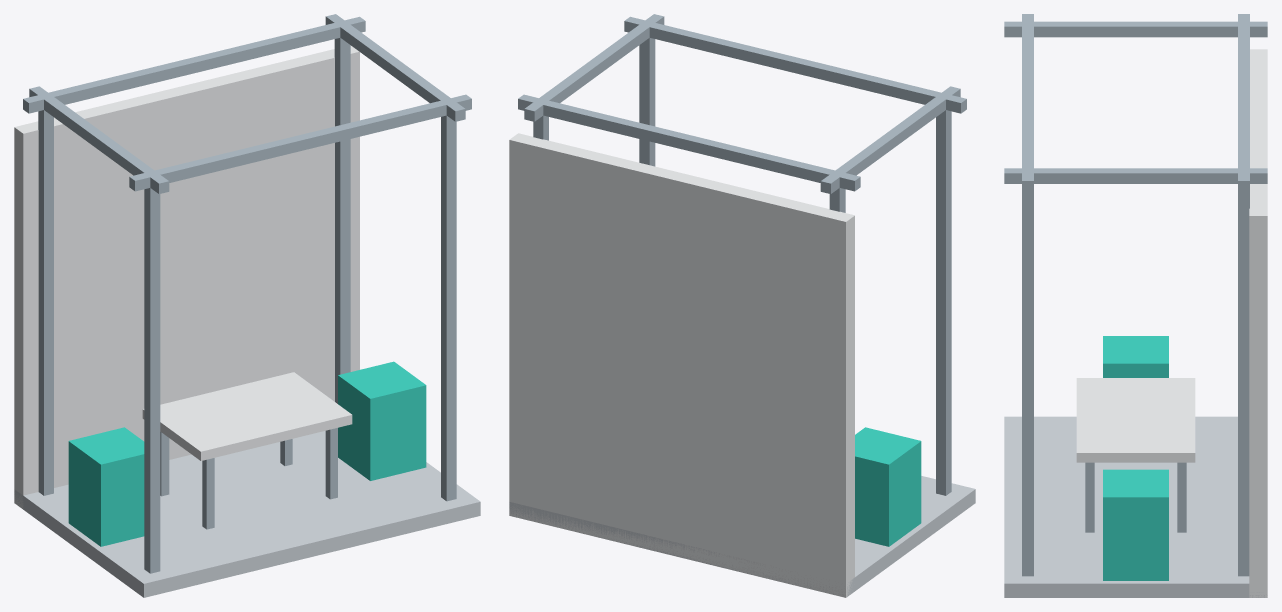
3 views of the same model, side by side, from view 1: azimuth 30°, elevation 25°; view 2: azimuth 150°, elevation 25°; view 3: azimuth 270°, elevation 25° (orthographic).
Parts seen in each view (by area): view 1: Exhibition Booth Concept; view 2: Exhibition Booth Concept; view 3: Exhibition Booth Concept.
Part boxes in pixels (x1,y1,x2,y2): Exhibition Booth Concept: [14, 14, 480, 597]; Exhibition Booth Concept: [509, 14, 975, 597]; Exhibition Booth Concept: [1004, 14, 1267, 597].
Size of the model in its own units: 3 by 3.49 by 2.
